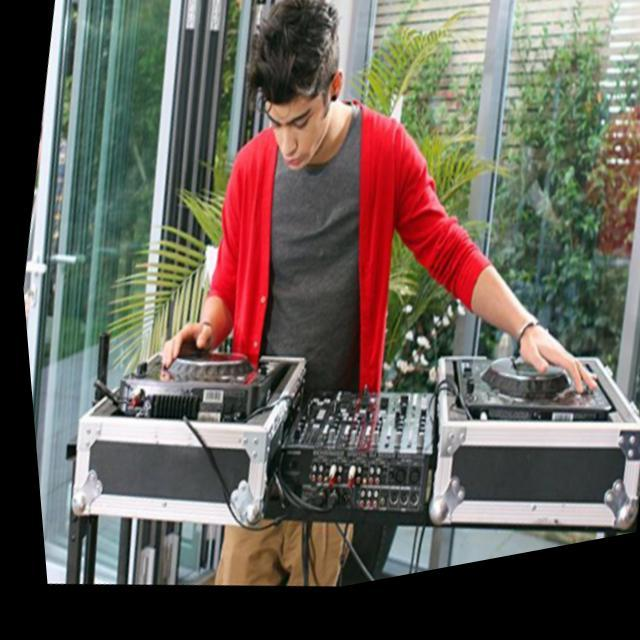Nonhelmet: (239, 0, 350, 174)
